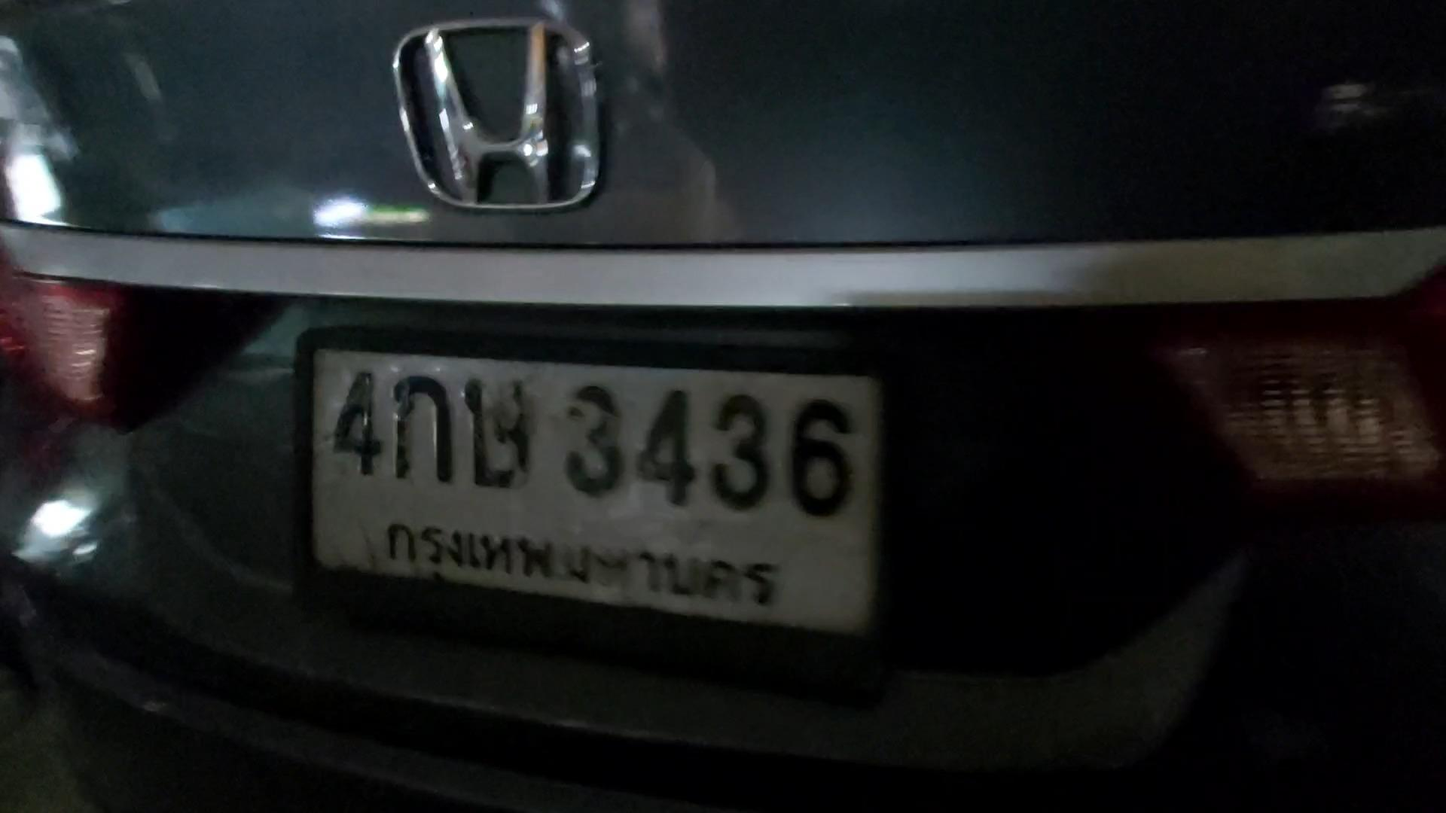license-plate: (309, 347, 881, 649)
